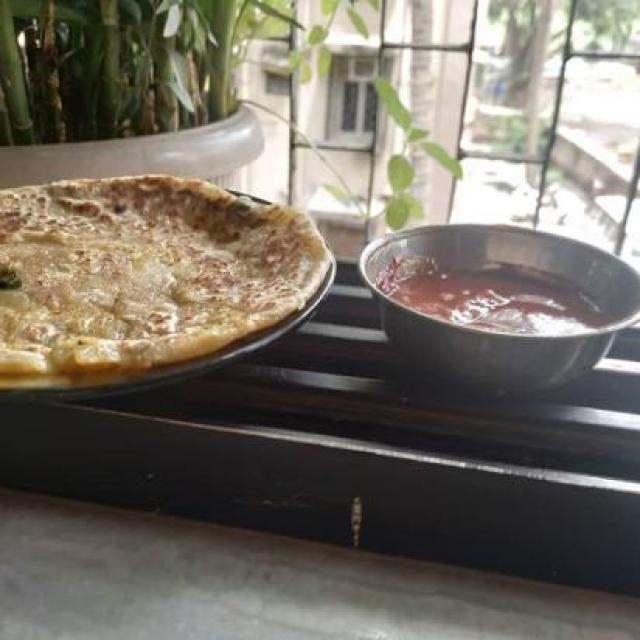alooparatha-chapati: (6, 180, 337, 396)
